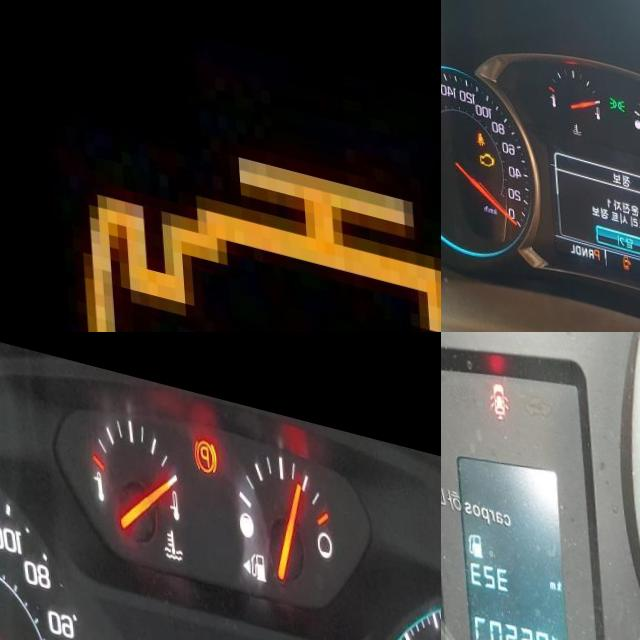Doors: (487, 363, 509, 405), (617, 240, 626, 253)
SideLamp: (605, 79, 623, 97)
